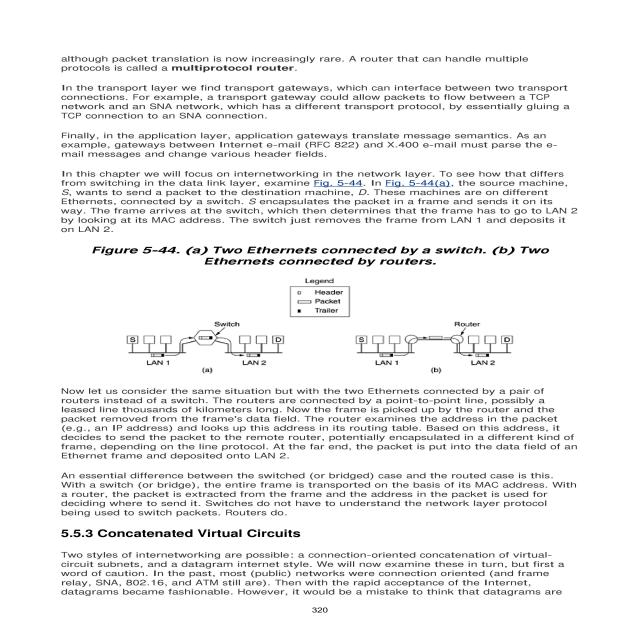diagram: (75, 237, 551, 379)
